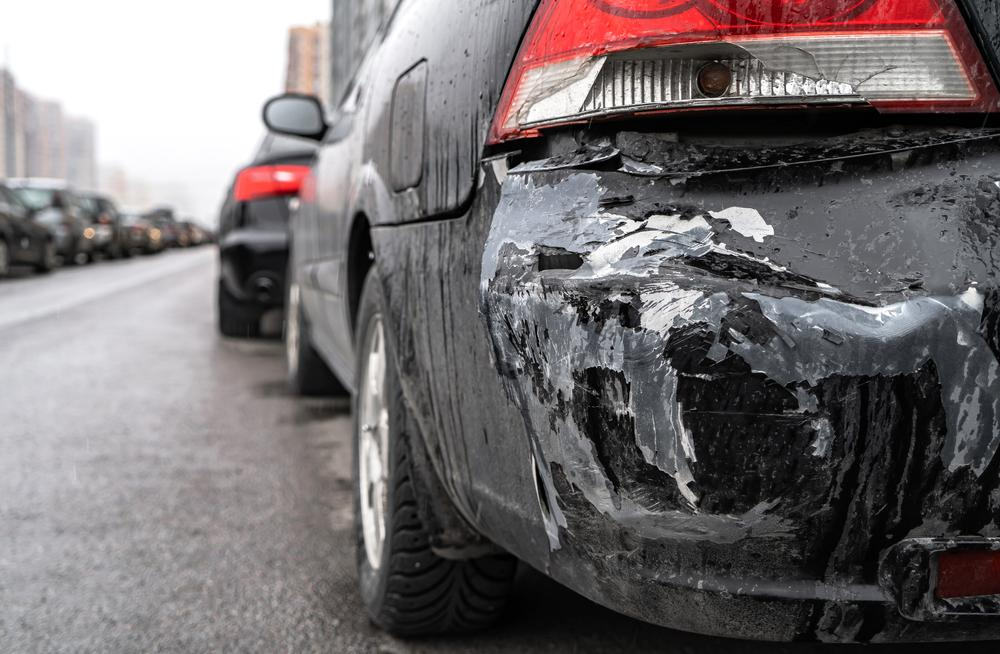lamp broken: (489, 0, 1000, 143)
scratch: (474, 170, 1000, 561)
